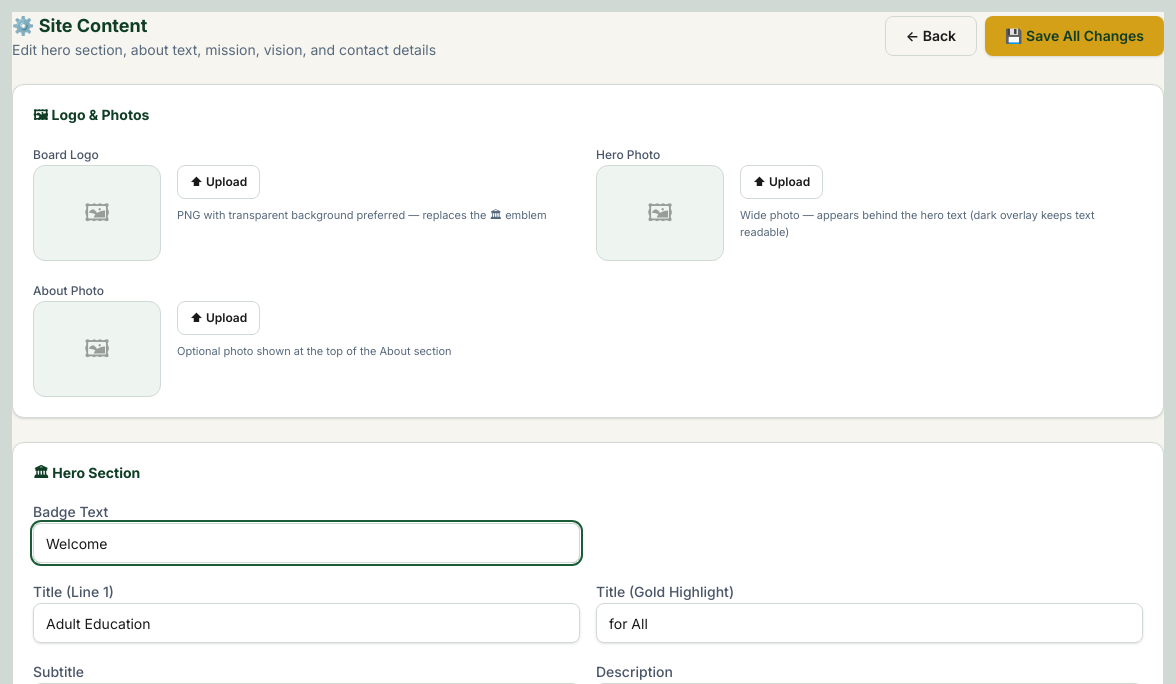
Test: SiteContent editor › keeps input focus while typing (no remount per keystroke)
Type "Hello World" into the field below "Badge Text" at (306, 543), box [33, 523, 580, 563]
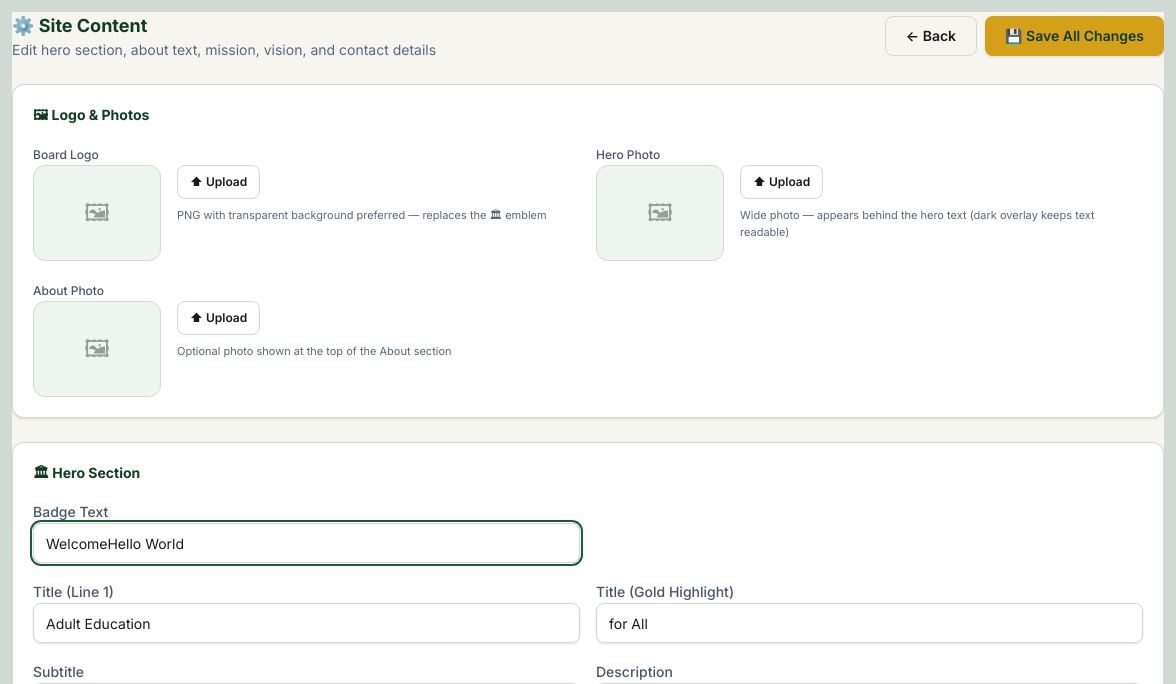
Expected: the field below "Badge Text" holds "WelcomeHello World", [33, 523, 580, 563]
